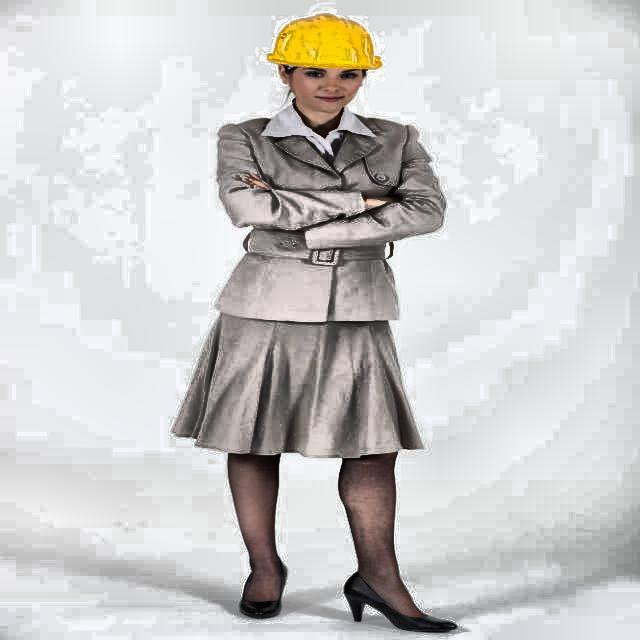person: (185, 8, 470, 640)
